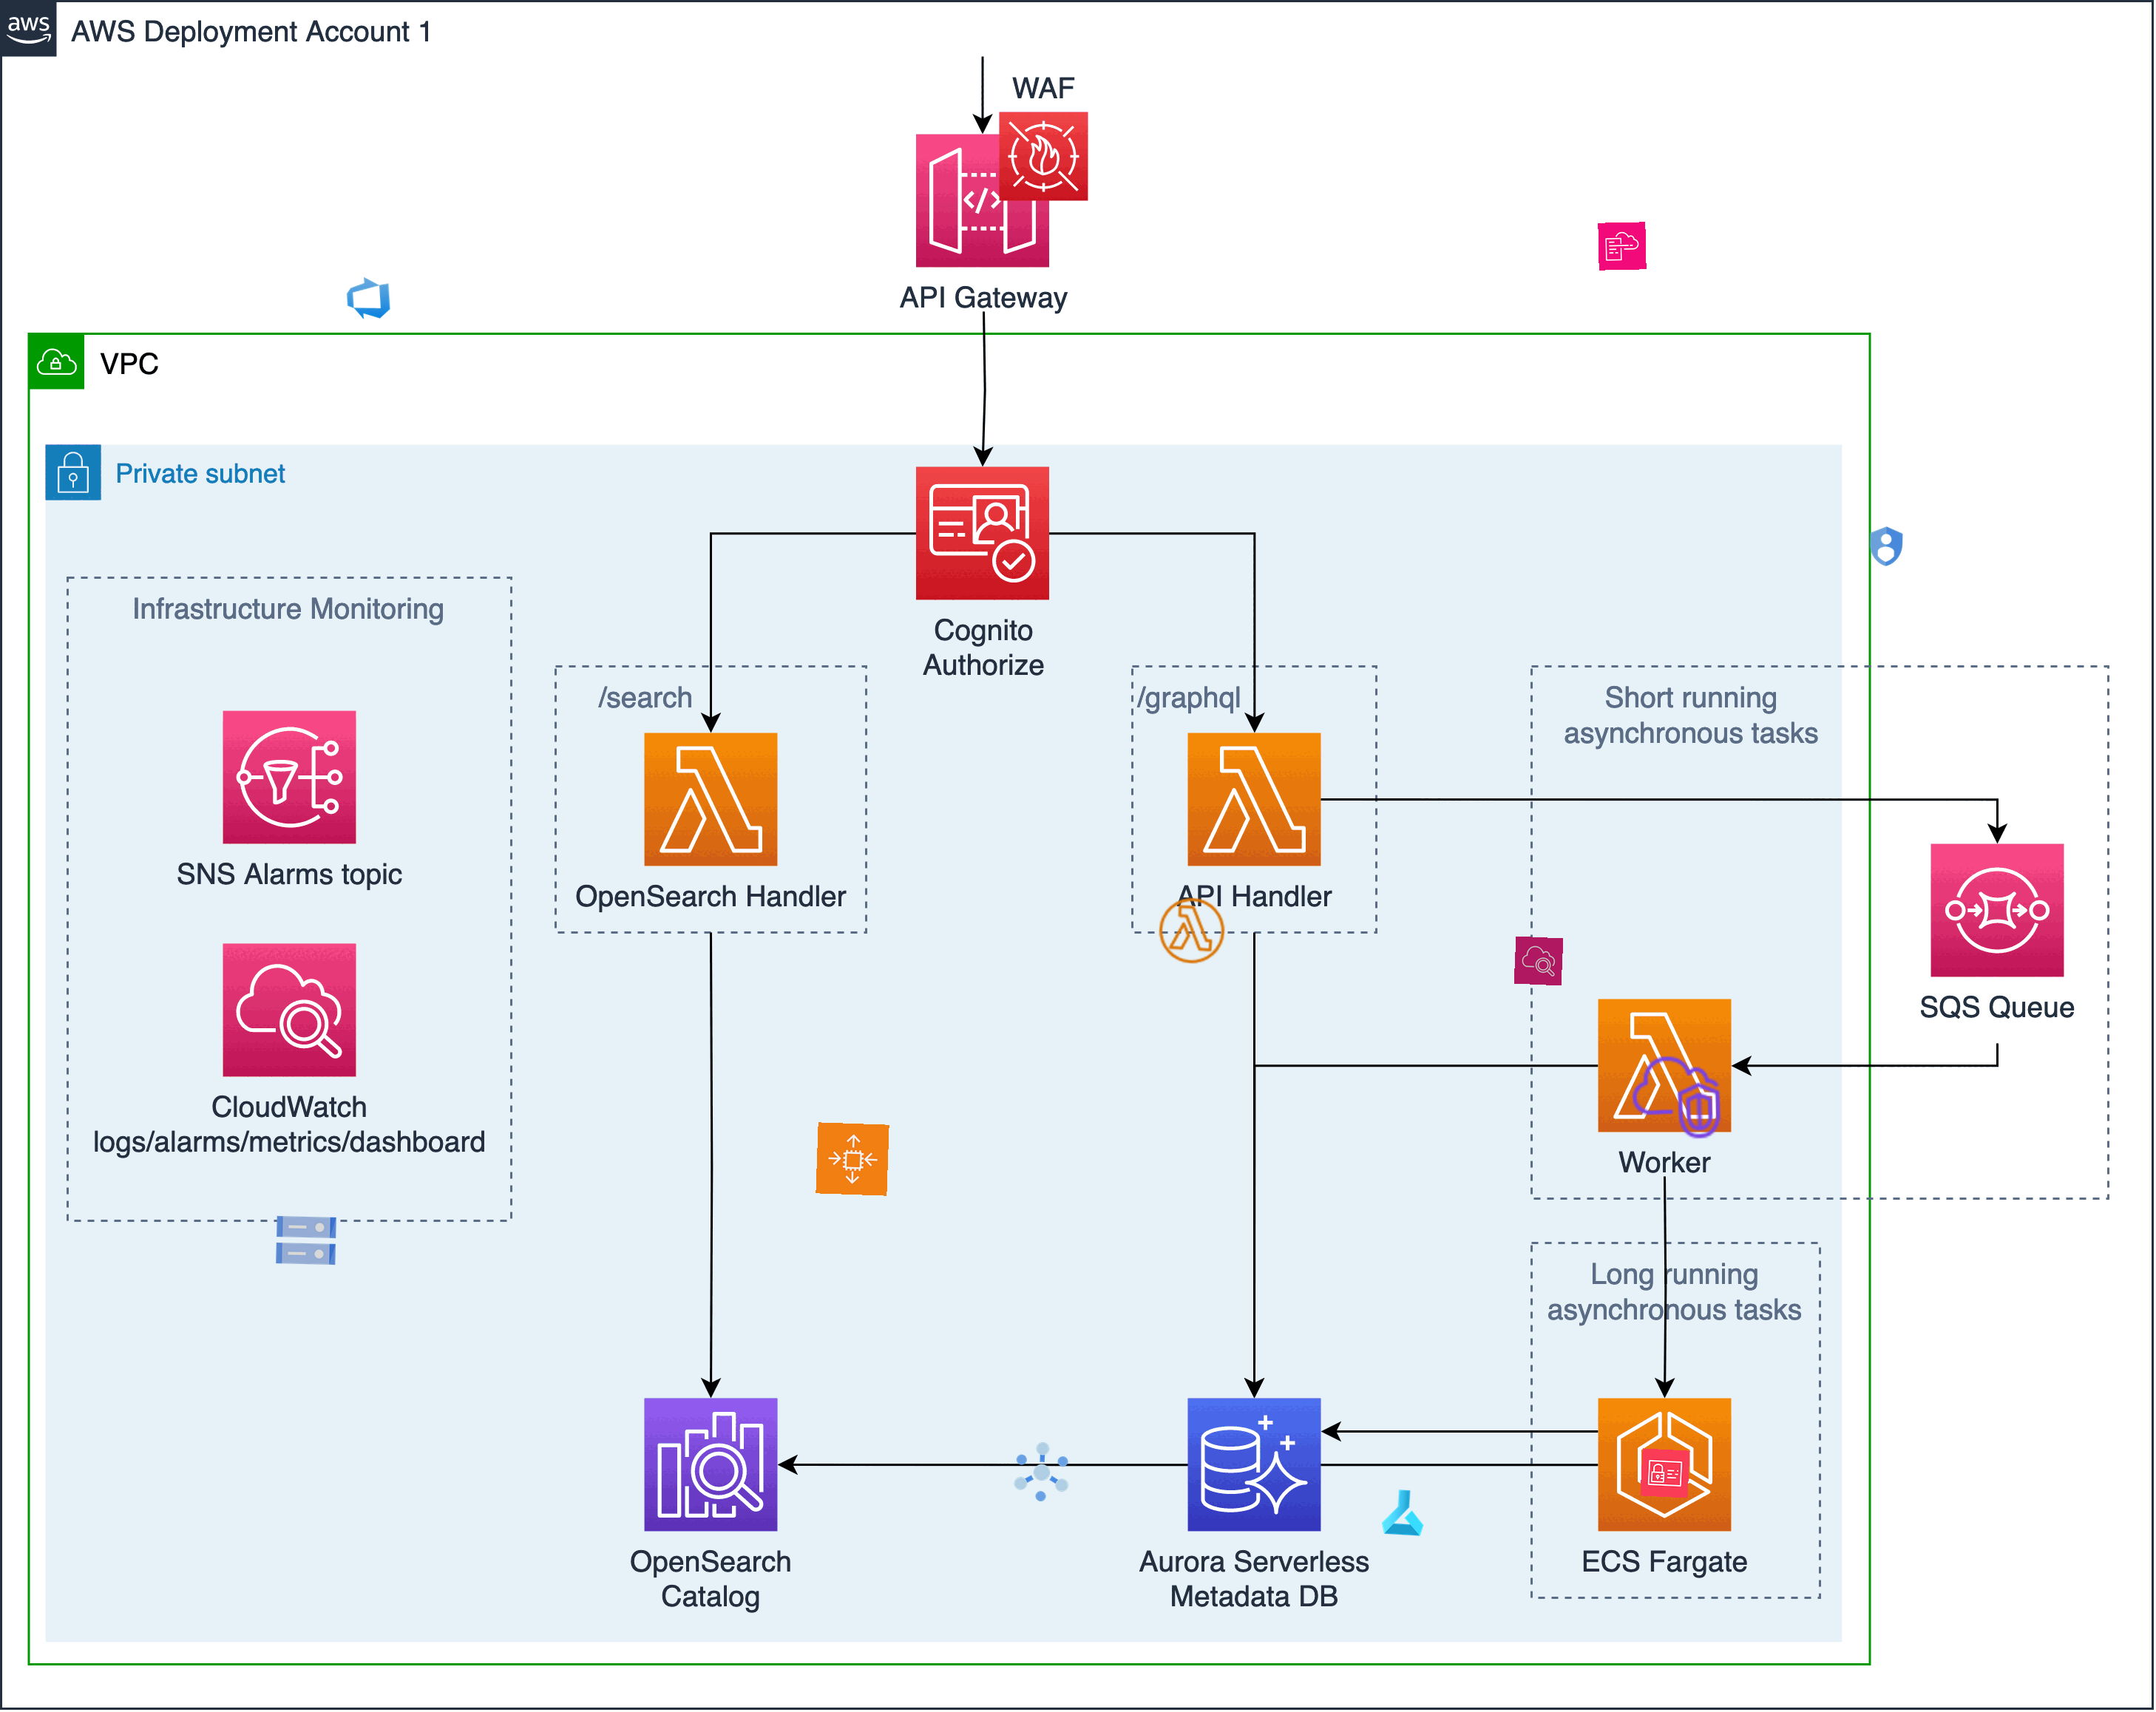aws_amazon_cloudwatch: (1514, 936, 1564, 986)
aws_amazon_ec2_auto_scaling: (815, 1123, 889, 1196)
aws_cloudformation: (1598, 222, 1647, 271)
aws_identity_and_access_management: (1640, 1448, 1690, 1499)
aws_lambda_lambda_function: (1155, 894, 1230, 969)
aws_vpc_virtual_private_cloud_vpc: (1626, 1047, 1726, 1147)
azure_devops: (343, 273, 394, 324)
azure_machine_learning: (1379, 1486, 1428, 1537)
gcp_cloud_storage: (269, 1203, 343, 1277)
gcp_identity_and_access_management: (1862, 521, 1911, 570)
gcp_pubsub: (1005, 1434, 1080, 1509)
